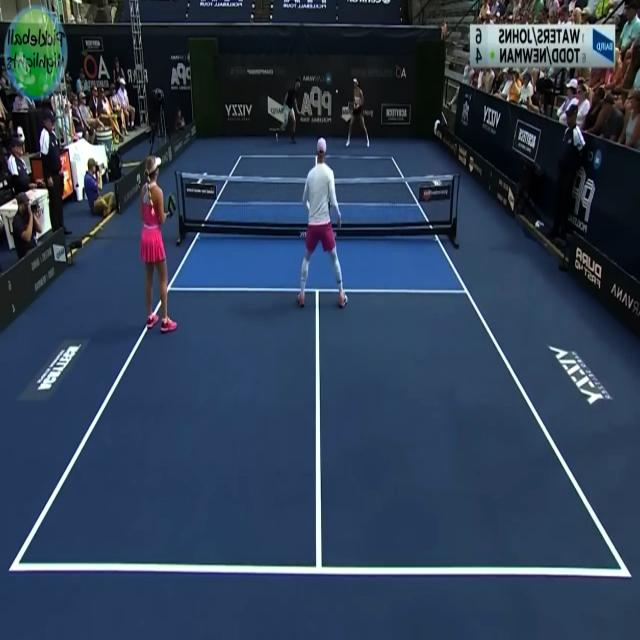Pickleball: (335, 88, 338, 94)
